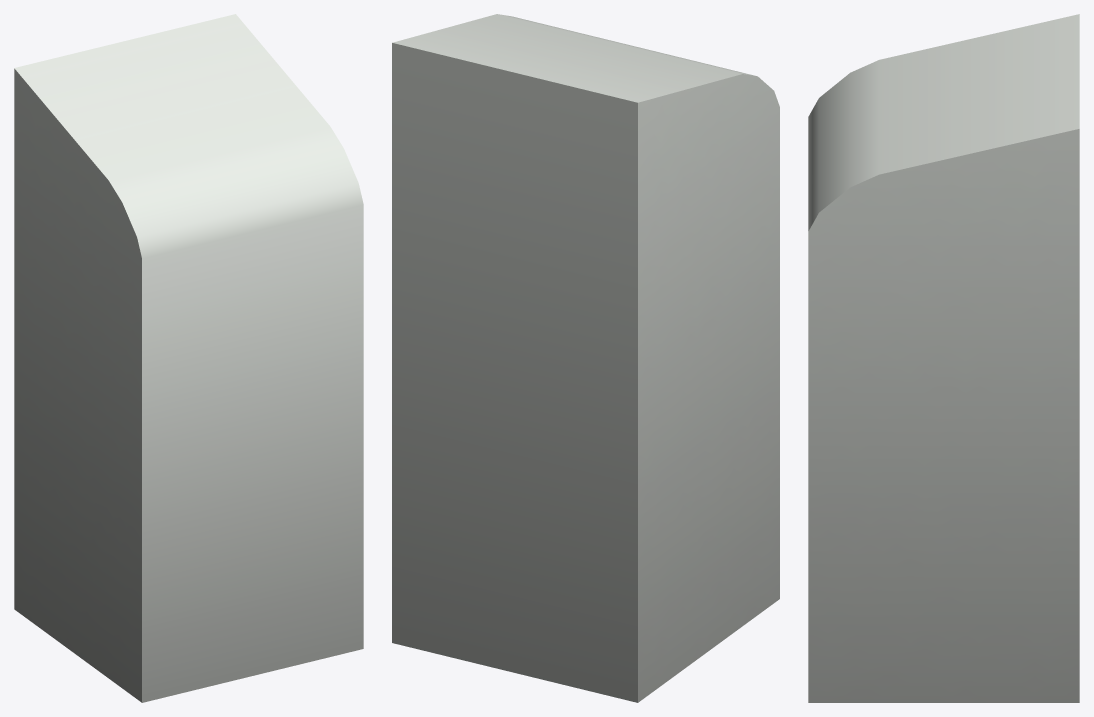
The model's file is Chamfered_Box_B.fbx.
The picture shows the model from 3 angles, left to right: view 1: azimuth 30°, elevation 25°; view 2: azimuth 150°, elevation 25°; view 3: azimuth 270°, elevation 25°; orthographic projection. The views are drawn at different scales.
Parts seen in each view (by area): view 1: Chamfered_Box_B; view 2: Chamfered_Box_B; view 3: Chamfered_Box_B.
Part boxes in pixels (left/top/right/bottom): Chamfered_Box_B: left=14, top=14, right=363, bottom=702; Chamfered_Box_B: left=392, top=14, right=779, bottom=702; Chamfered_Box_B: left=808, top=14, right=1079, bottom=702.
Size of the model in its own units: 100 by 233 by 100.
